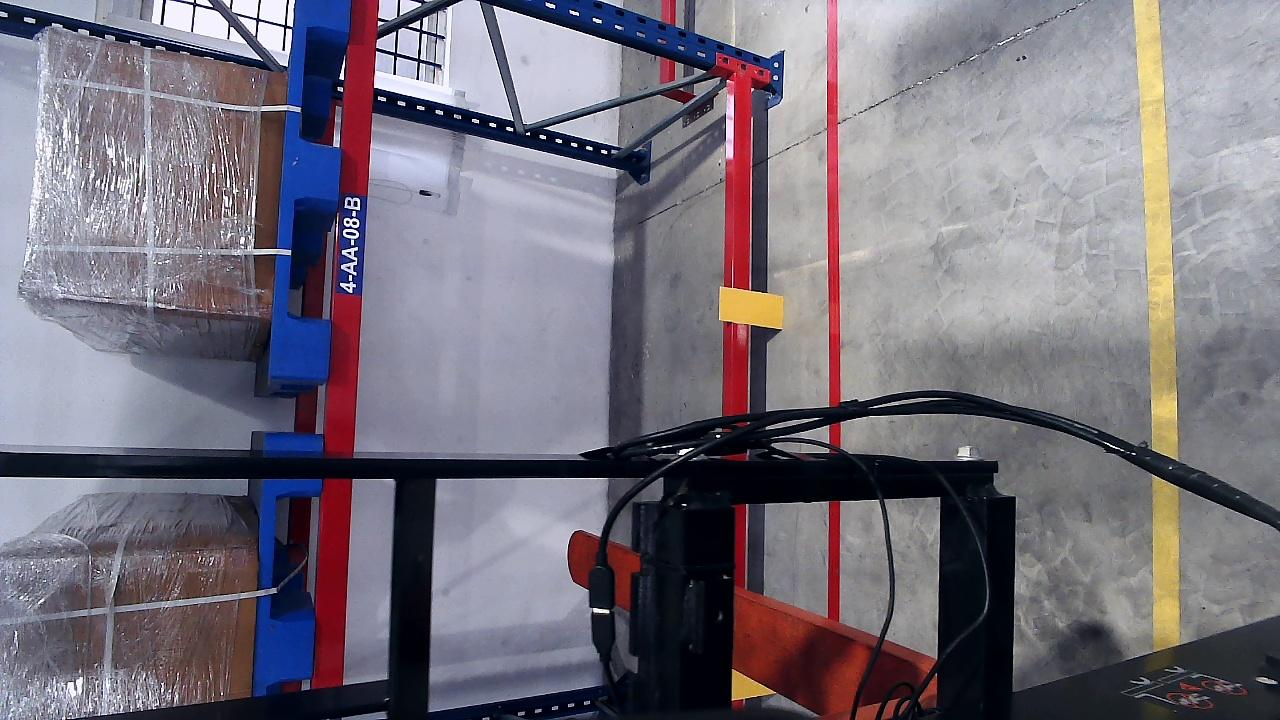h_rack: (346, 1, 381, 582), (728, 74, 757, 413)
orange_strip: (719, 285, 784, 328)
red_line: (822, 73, 844, 407)
small_pallet: (272, 1, 349, 383)
yellow_line: (1134, 1, 1180, 457), (1153, 438, 1180, 650)
